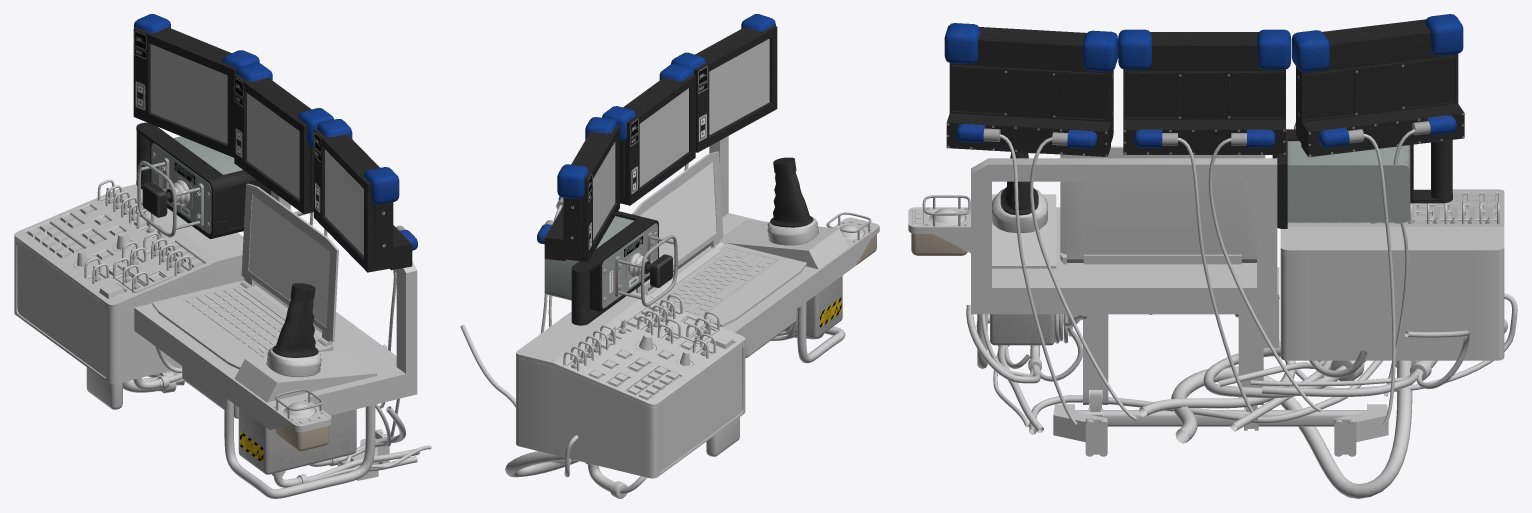
File: iss-robotic-workstation-rws.fbx
3 renders of one model, left to right at view 1: azimuth 30°, elevation 25°; view 2: azimuth 150°, elevation 25°; view 3: azimuth 270°, elevation 25°, orthographic. The views are drawn at different scales.
Parts seen in each view (by area): view 1: Cube.009_10_0, Cube.086_7_0, Cube.012_9_0, Cube.070_PC_2_0, Cube.033_9_0, Cube.035_9_0, Cube.070_PC_3_0, Cube.031_9_0, Cube.034_Monitor1_0, Cube.028_Monitor2_0, Cube.070_PC_1_0, BezierCurve.005_6_0 (+4 smaller); view 2: Cube.009_10_0, Cube.012_9_0, Cube.086_7_0, Cube.070_PC_2_0, Cube.035_9_0, Cube.031_9_0, Cube.033_9_0, Cube.070_PC_3_0, Cube.032_Monitor3_0, Cube.070_PC_1_0, Cube.028_Monitor2_0, BezierCurve.005_6_0 (+4 smaller); view 3: Cube.086_7_0, Cube.009_10_0, BezierCurve.005_6_0, Cube.033_9_0, Cube.035_9_0, Cube.031_9_0, Cube.070_PC_2_0, Cube.012_9_0, Cube.025_7_0, Cylinder.525_8_0.
Part boxes in pixels (bbox=[...]): Cube.009_10_0: bbox=[14, 179, 244, 409]; Cube.086_7_0: bbox=[114, 190, 417, 498]; Cube.012_9_0: bbox=[136, 122, 356, 474]; Cube.070_PC_2_0: bbox=[152, 183, 338, 369]; Cube.033_9_0: bbox=[314, 119, 417, 272]; Cube.035_9_0: bbox=[133, 14, 259, 157]; Cube.070_PC_3_0: bbox=[249, 195, 330, 326]; Cube.031_9_0: bbox=[234, 63, 333, 214]; Cube.034_Monitor1_0: bbox=[150, 44, 227, 143]; Cube.028_Monitor2_0: bbox=[247, 93, 299, 198]; Cube.070_PC_1_0: bbox=[185, 287, 316, 357]; BezierCurve.005_6_0: bbox=[155, 211, 431, 481]; Cube.009_10_0: bbox=[516, 292, 745, 478]; Cube.012_9_0: bbox=[544, 157, 876, 338]; Cube.086_7_0: bbox=[551, 136, 879, 464]; Cube.070_PC_2_0: bbox=[632, 151, 806, 326]; Cube.035_9_0: bbox=[537, 117, 619, 261]; Cube.031_9_0: bbox=[602, 64, 695, 205]; Cube.033_9_0: bbox=[671, 14, 777, 152]; Cube.070_PC_3_0: bbox=[640, 162, 716, 285]; Cube.032_Monitor3_0: bbox=[709, 38, 769, 135]; Cube.070_PC_1_0: bbox=[658, 248, 775, 314]; Cube.028_Monitor2_0: bbox=[639, 88, 688, 187]; BezierCurve.005_6_0: bbox=[460, 163, 797, 493]; Cube.086_7_0: bbox=[908, 158, 1388, 456]; Cube.009_10_0: bbox=[1280, 189, 1504, 360]; BezierCurve.005_6_0: bbox=[966, 129, 1517, 498]; Cube.033_9_0: bbox=[944, 23, 1118, 156]; Cube.035_9_0: bbox=[1291, 14, 1464, 157]; Cube.031_9_0: bbox=[1118, 29, 1290, 154]; Cube.070_PC_2_0: bbox=[1060, 146, 1265, 264]; Cube.012_9_0: bbox=[911, 122, 1452, 345]; Cube.025_7_0: bbox=[992, 189, 1047, 232]; Cylinder.525_8_0: bbox=[997, 319, 1507, 380].
Size of the model in its own units: 5847 by 8492 by 10948.
